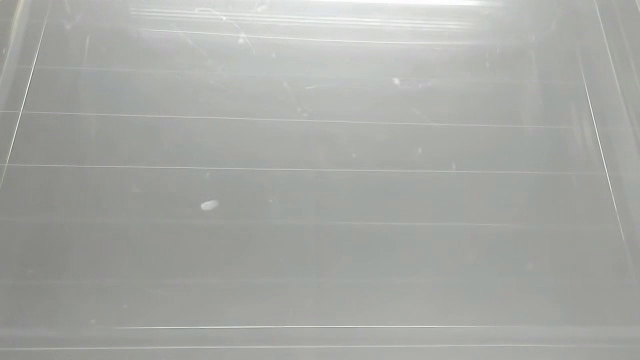alpha: (197, 196, 221, 215)
